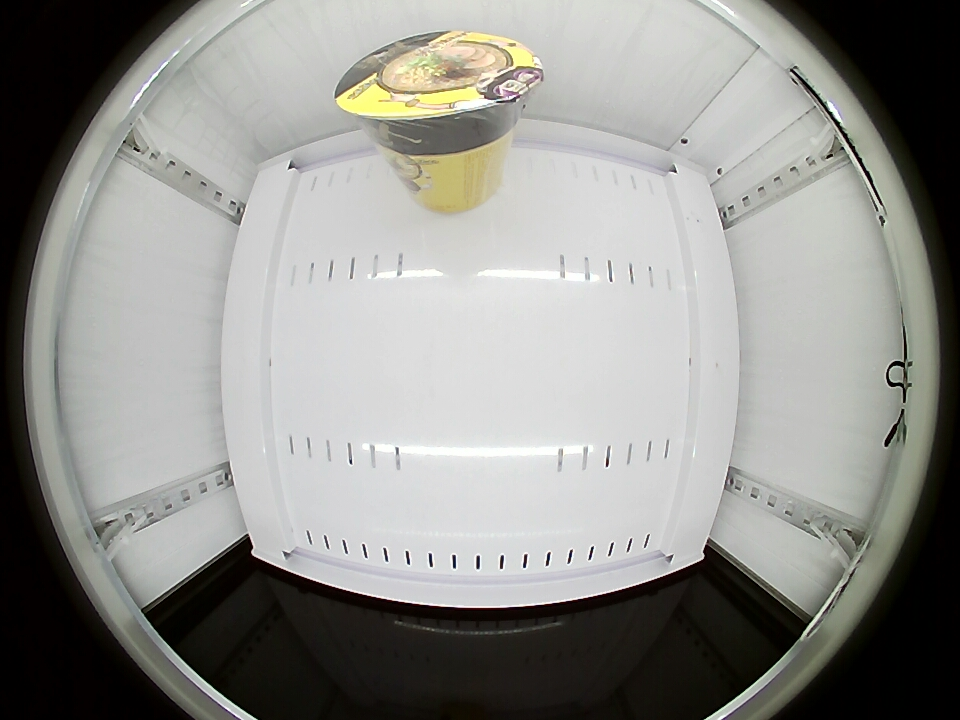tangdaren2: (334, 30, 544, 157)
